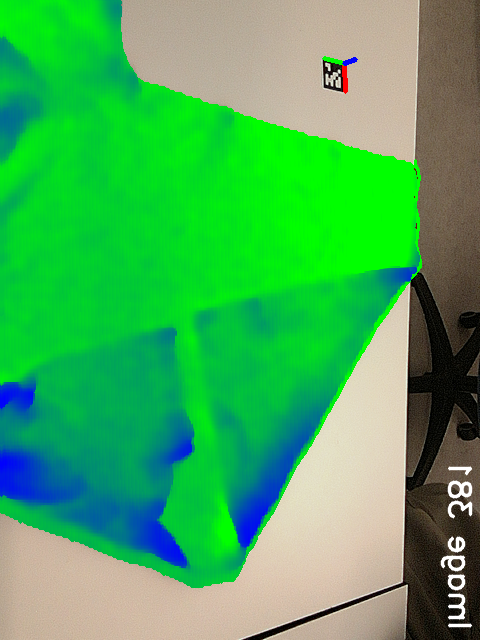V: (128, 313, 187, 362), (187, 297, 241, 350)
